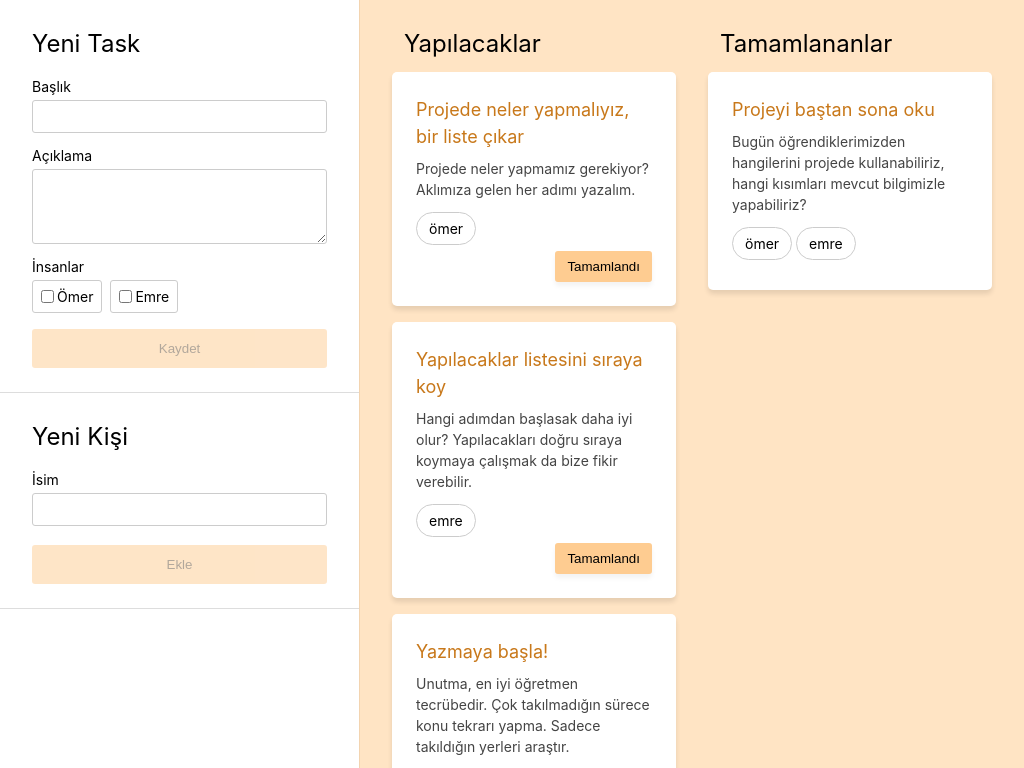
Scenario: 1.1.1 Başlık alanına 2 karakter girilince hata mesajı doğru metinle çıkıyor.
In the field labelled "Başlık": (180, 116) [32, 100, 327, 133], type "Em"
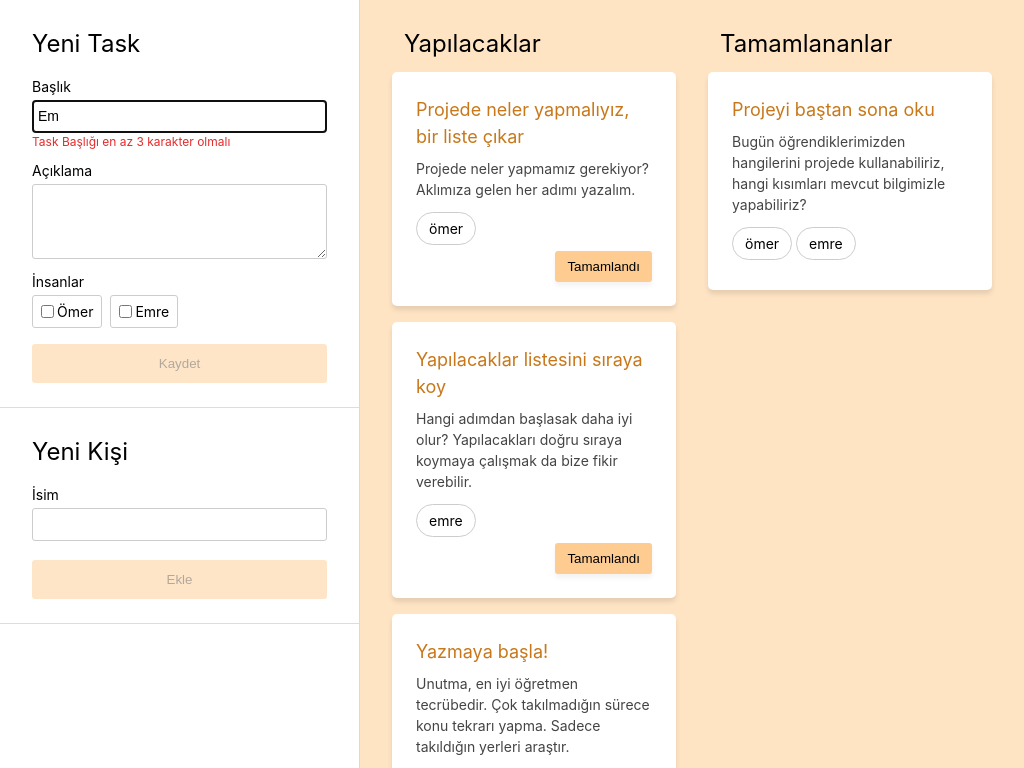
Expected: the text "Task Başlığı en az 3 karakter olmalı" is shown, [32, 134, 230, 149]
